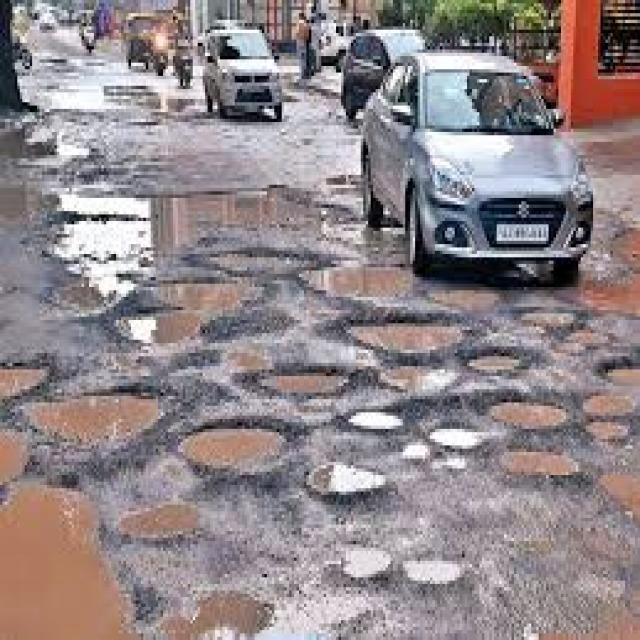pothole: (0, 486, 126, 639), (155, 185, 321, 273), (55, 220, 154, 296), (116, 284, 240, 344), (180, 414, 301, 474), (51, 70, 201, 112), (29, 396, 159, 442), (581, 226, 640, 316), (164, 592, 271, 640), (304, 266, 411, 297), (351, 324, 461, 354), (230, 372, 348, 399), (0, 128, 90, 159), (119, 504, 199, 538), (306, 462, 386, 494), (380, 366, 459, 396), (55, 194, 150, 218), (490, 402, 566, 429), (501, 451, 579, 476), (600, 476, 640, 522), (430, 289, 500, 313), (1, 369, 48, 401), (0, 432, 28, 484), (344, 549, 391, 578), (402, 561, 462, 583), (555, 330, 608, 354), (429, 429, 489, 449), (582, 395, 634, 418), (0, 188, 39, 218), (349, 411, 402, 429), (468, 355, 520, 373), (586, 421, 629, 441), (521, 312, 575, 327), (60, 290, 89, 317), (608, 369, 640, 386), (404, 442, 430, 459)
